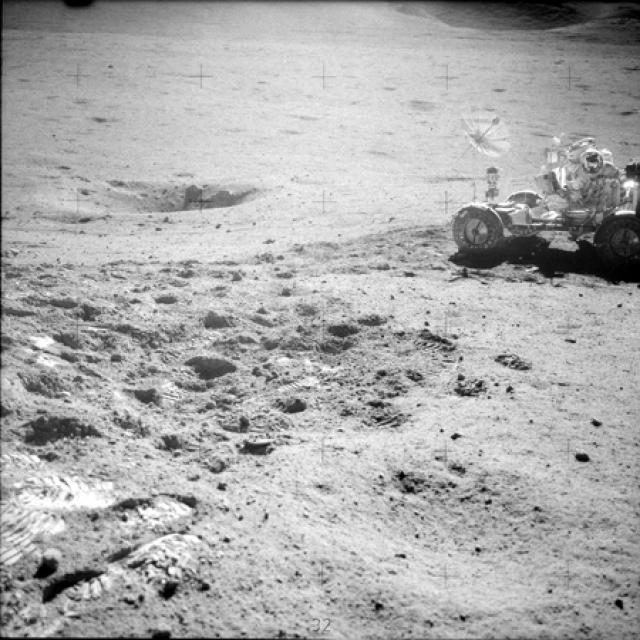artifact: (431, 98, 639, 272)
crater: (66, 178, 253, 226)
rock: (242, 424, 277, 460)
